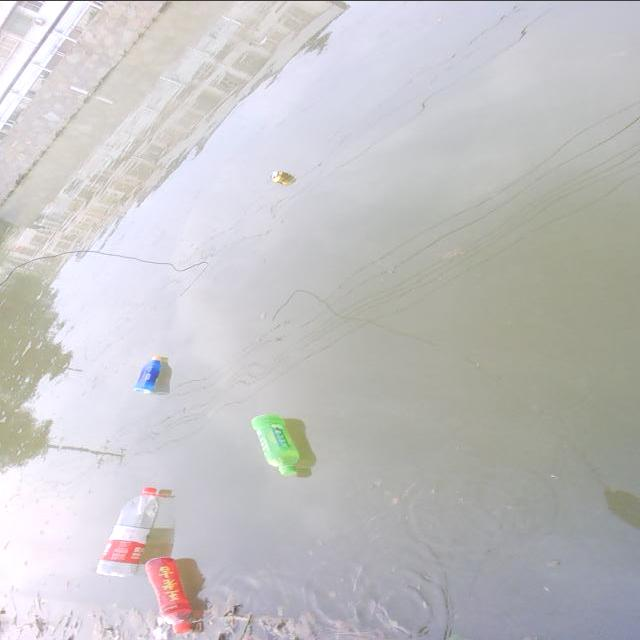bottle: (71, 464, 200, 590), (133, 547, 208, 640), (238, 403, 314, 483), (119, 350, 173, 404)
